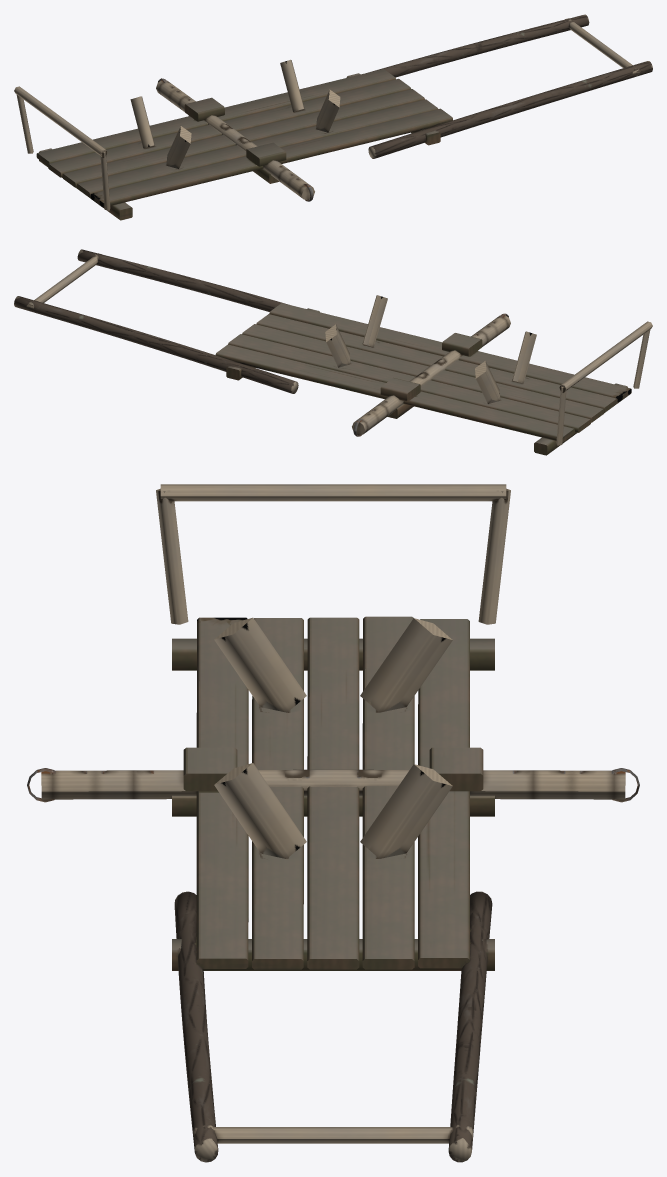
The model's file is SM_Camp_CannonCart_Body.fbx.
3 renders of one model, top to bottom at view 1: azimuth 30°, elevation 25°; view 2: azimuth 150°, elevation 25°; view 3: azimuth 270°, elevation 25°, orthographic. The views are drawn at different scales.
Parts seen in each view (by area): view 1: SM_Camp_CannonCart_Body; view 2: SM_Camp_CannonCart_Body; view 3: SM_Camp_CannonCart_Body.
Part boxes in pixels (left/top/right/bottom): SM_Camp_CannonCart_Body: left=14, top=14, right=652, bottom=220; SM_Camp_CannonCart_Body: left=14, top=249, right=652, bottom=455; SM_Camp_CannonCart_Body: left=27, top=484, right=639, bottom=1162.
Bounding box in the file's own units: 337 × 160 × 46.31.
